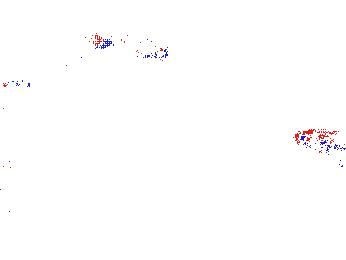red belly glassfish: (293, 129, 346, 158)
redtail glassfish: (94, 30, 173, 64), (43, 33, 91, 64)
